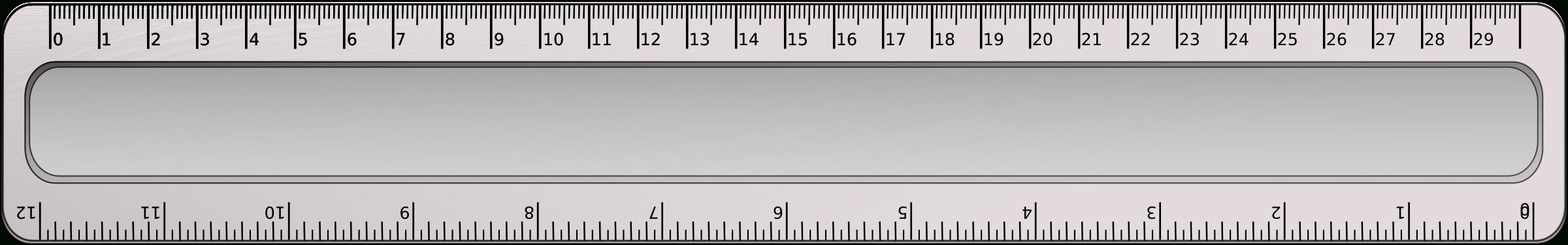scale: (2, 0, 1568, 240)
